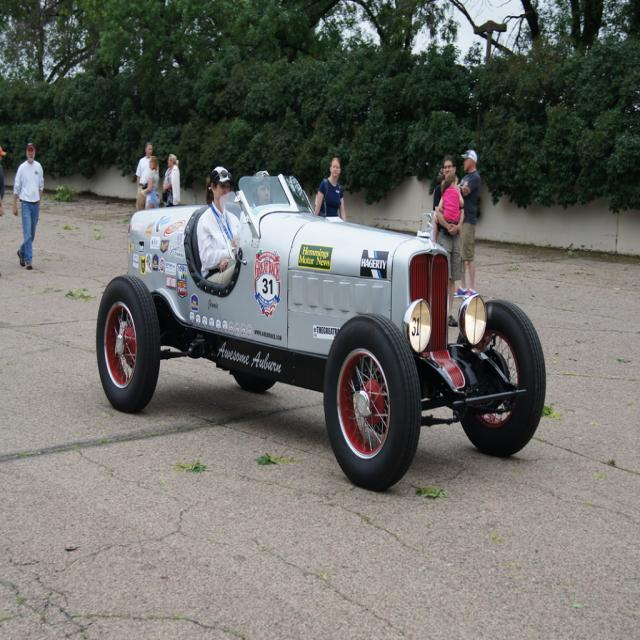car: (95, 207, 545, 489)
